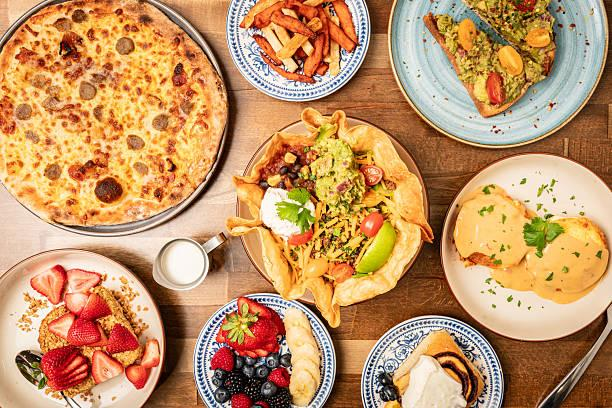Braised Crucian Carp: (4, 0, 229, 234), (234, 115, 422, 304), (440, 152, 610, 341), (390, 0, 604, 149), (0, 248, 167, 406), (193, 294, 333, 407), (225, 0, 369, 102), (361, 315, 503, 406)
